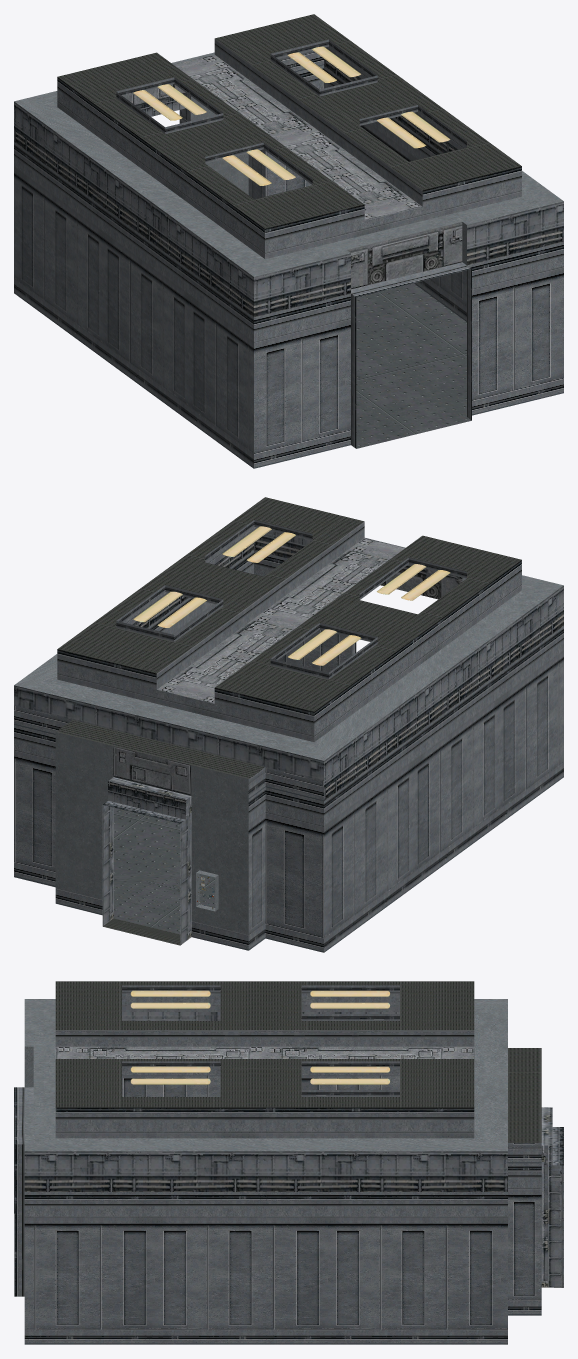
Rendered from poi_all_impl_bunker_s01_r7_room3_mesh_r7.fbx.
3 renders of one model, top to bottom at view 1: azimuth 30°, elevation 25°; view 2: azimuth 150°, elevation 25°; view 3: azimuth 270°, elevation 25°, orthographic.
Parts seen in each view (by area): view 1: mesh_node; view 2: mesh_node; view 3: mesh_node.
Part boxes in pixels (box(x1,y1,x2,y2)): mesh_node: box(14, 14, 563, 468); mesh_node: box(14, 497, 563, 952); mesh_node: box(14, 981, 563, 1344).
Size of the model in its own units: 8.03 by 5.69 by 12.25.
